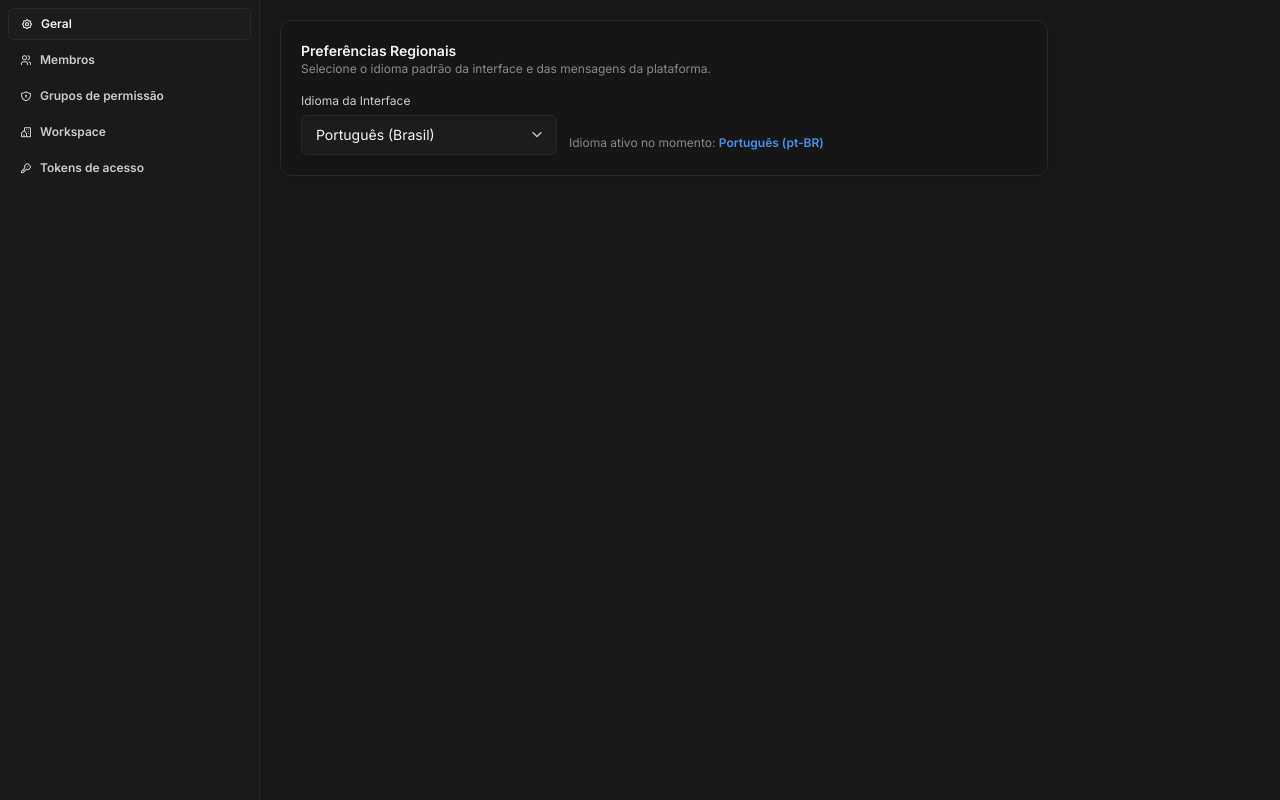
Test case: SettingsView member access and workspace actions › opens and closes the access editor of a member without stored permissions
Click the button with test id "settings-section-members": (130, 60) [8,44,251,76]
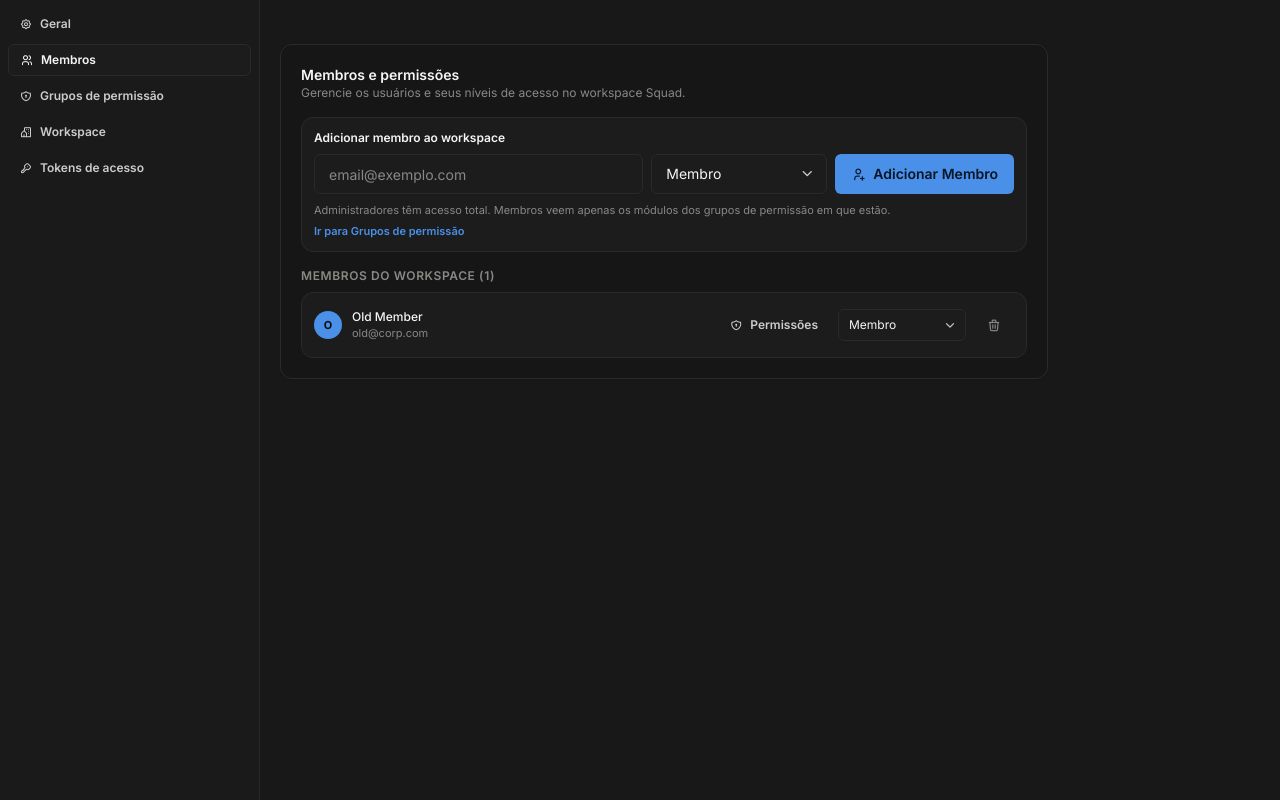
Click the button with aria-label "Permissões Old Member": (774, 325) [718,309,830,341]
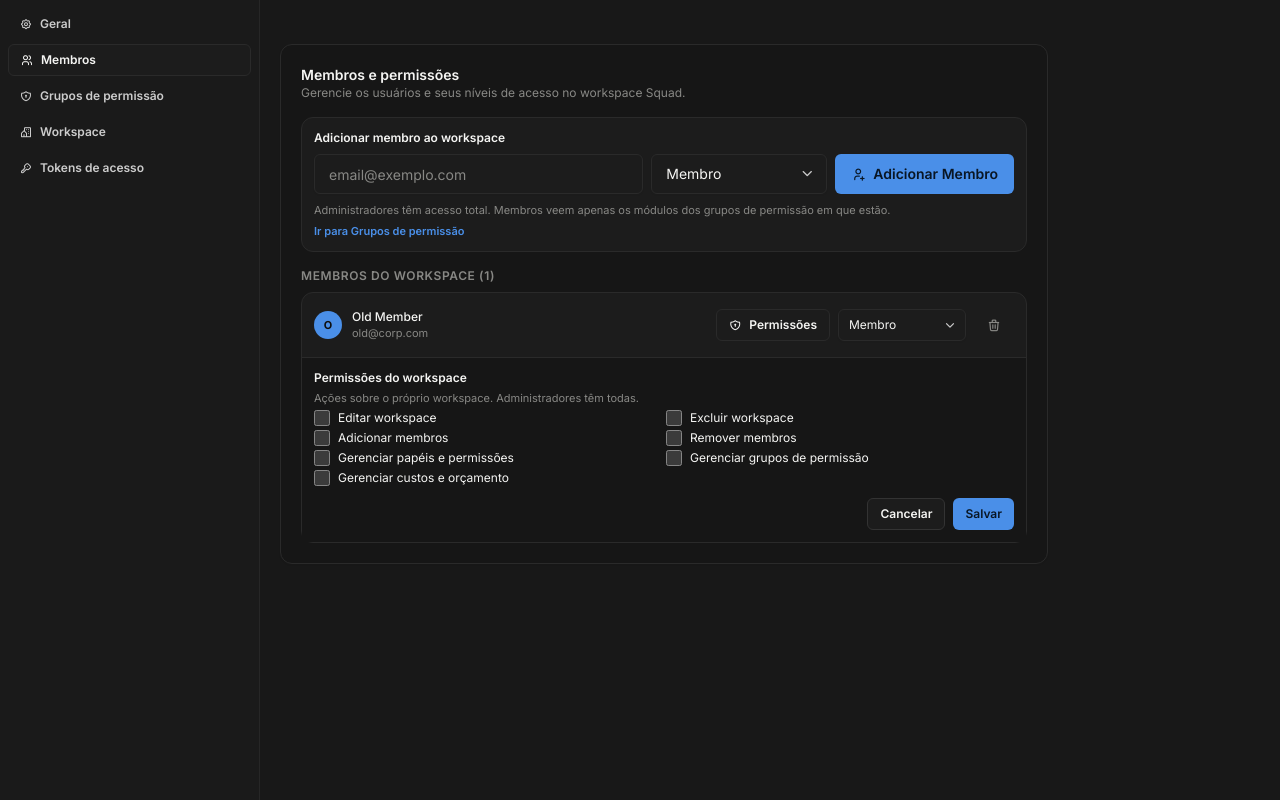
Expected: the button with aria-label "Permissões Old Member" is expanded, [716,309,830,341]
Expected: the checkbox labelled "Gerenciar grupos de permissão" is not checked, [666,450,682,466]
Click the button "Salvar": (984, 514) [954,498,1014,530]
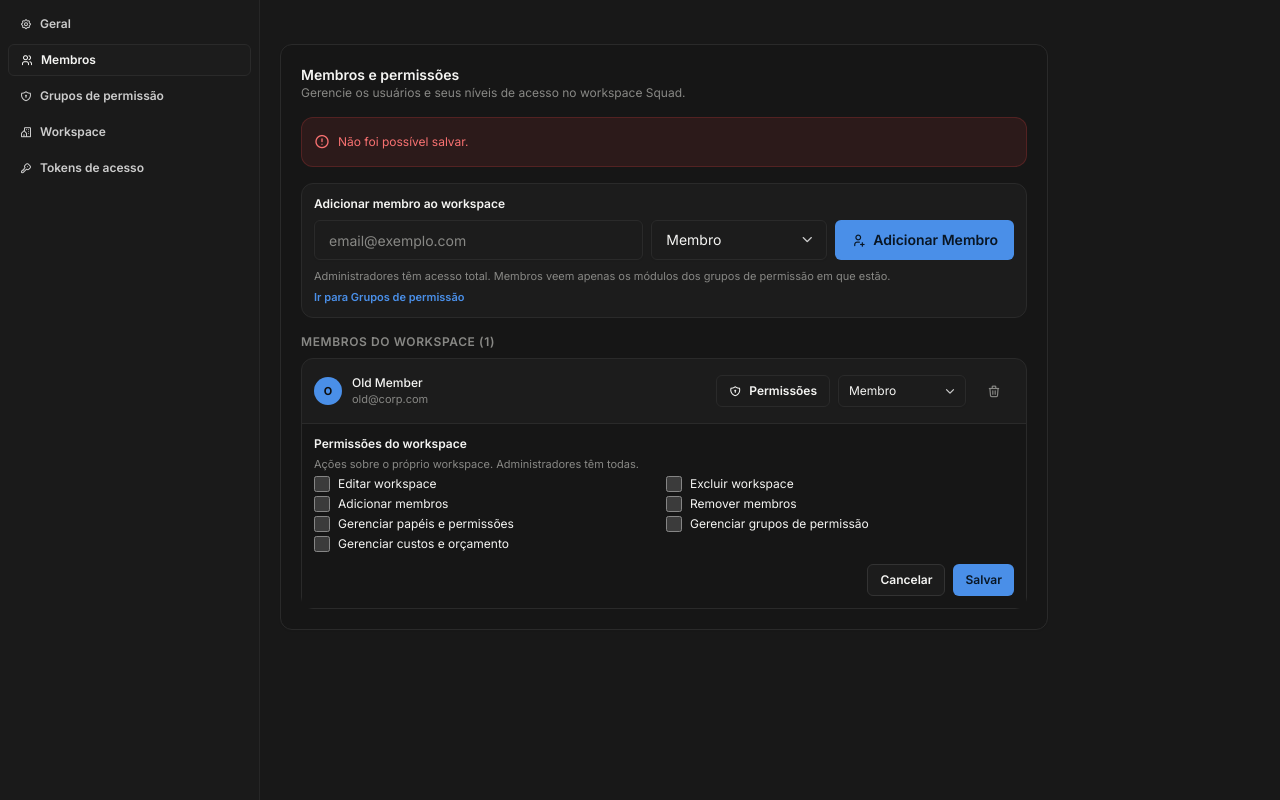
Expected: the text "Não foi possível salvar." is shown, [338,134,468,150]
Click the button with aria-label "Permissões Old Member": (773, 391) [716,375,830,407]
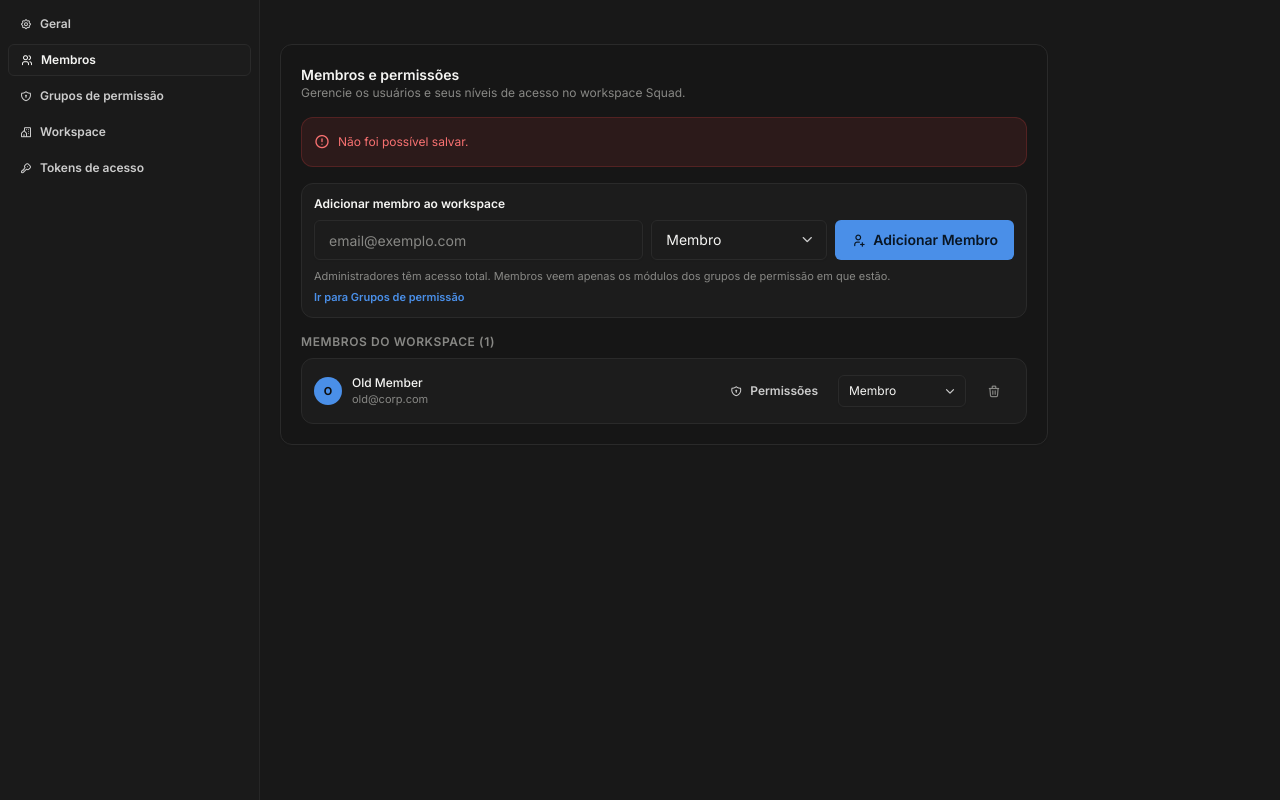
Expected: the button with aria-label "Permissões Old Member" is collapsed, [718,375,830,407]
Expected: the element with test id "member-access-m-old" is gone
